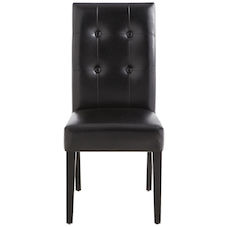chair: (42, 0, 196, 223)
